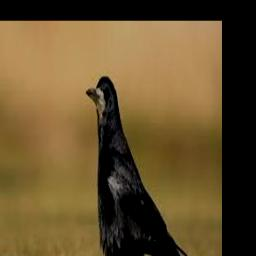Crow: (86, 75, 197, 256)
